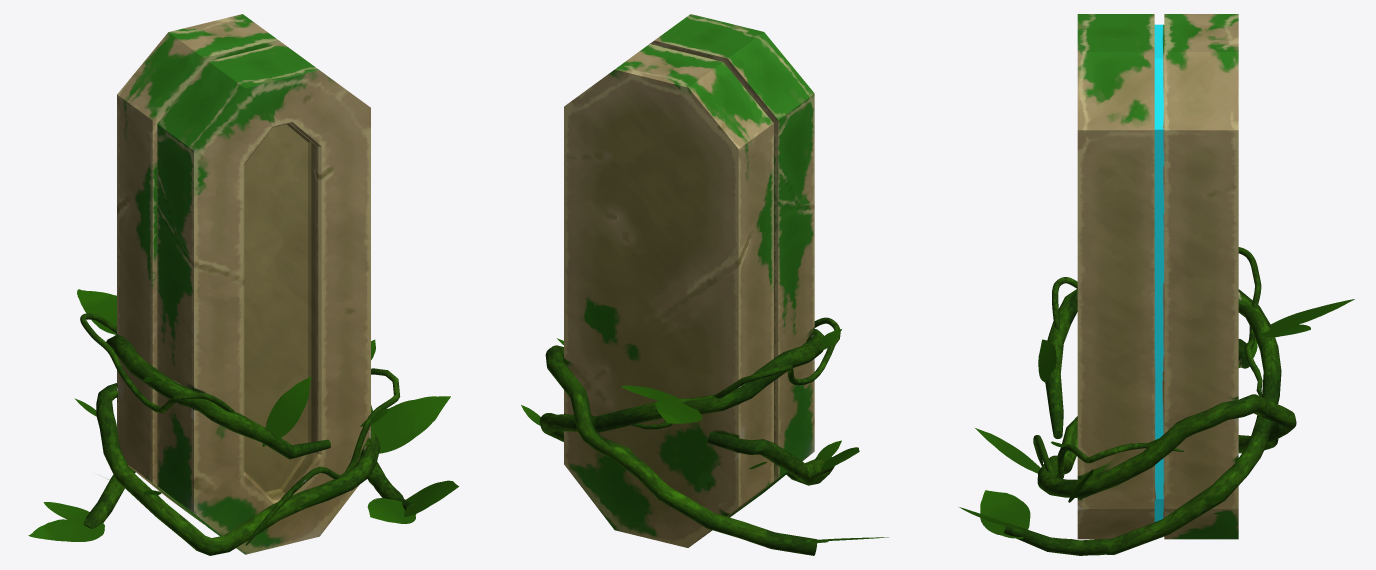
The model's file is stone001.fbx.
3 renders of one model, left to right at view 1: azimuth 30°, elevation 25°; view 2: azimuth 150°, elevation 25°; view 3: azimuth 270°, elevation 25°, orthographic. The views are drawn at different scales.
Parts seen in each view (by area): view 1: stone001, leaf001, vine001, vine002, vine004, vine003; view 2: stone001, vine001, vine002, leaf001, vine004; view 3: stone001, vine002, vine001, leaf001, vine004, vine003.
Part boxes in pixels (bbox=[...]): stone001: bbox=[117, 14, 370, 554]; leaf001: bbox=[28, 289, 458, 541]; vine001: bbox=[83, 383, 380, 555]; vine002: bbox=[106, 334, 413, 510]; vine004: bbox=[80, 313, 234, 413]; vine003: bbox=[246, 368, 400, 545]; stone001: bbox=[564, 14, 814, 547]; vine001: bbox=[545, 345, 834, 555]; vine002: bbox=[539, 329, 823, 441]; leaf001: bbox=[521, 329, 888, 542]; vine004: bbox=[631, 317, 840, 429]; stone001: bbox=[1077, 14, 1238, 539]; vine002: bbox=[1004, 288, 1281, 555]; vine001: bbox=[1037, 339, 1296, 497]; leaf001: bbox=[959, 299, 1354, 538]; vine004: bbox=[1052, 247, 1262, 396]; vine003: bbox=[1033, 435, 1183, 478].
Size of the model in its own units: 26.07 by 29.17 by 23.53.
